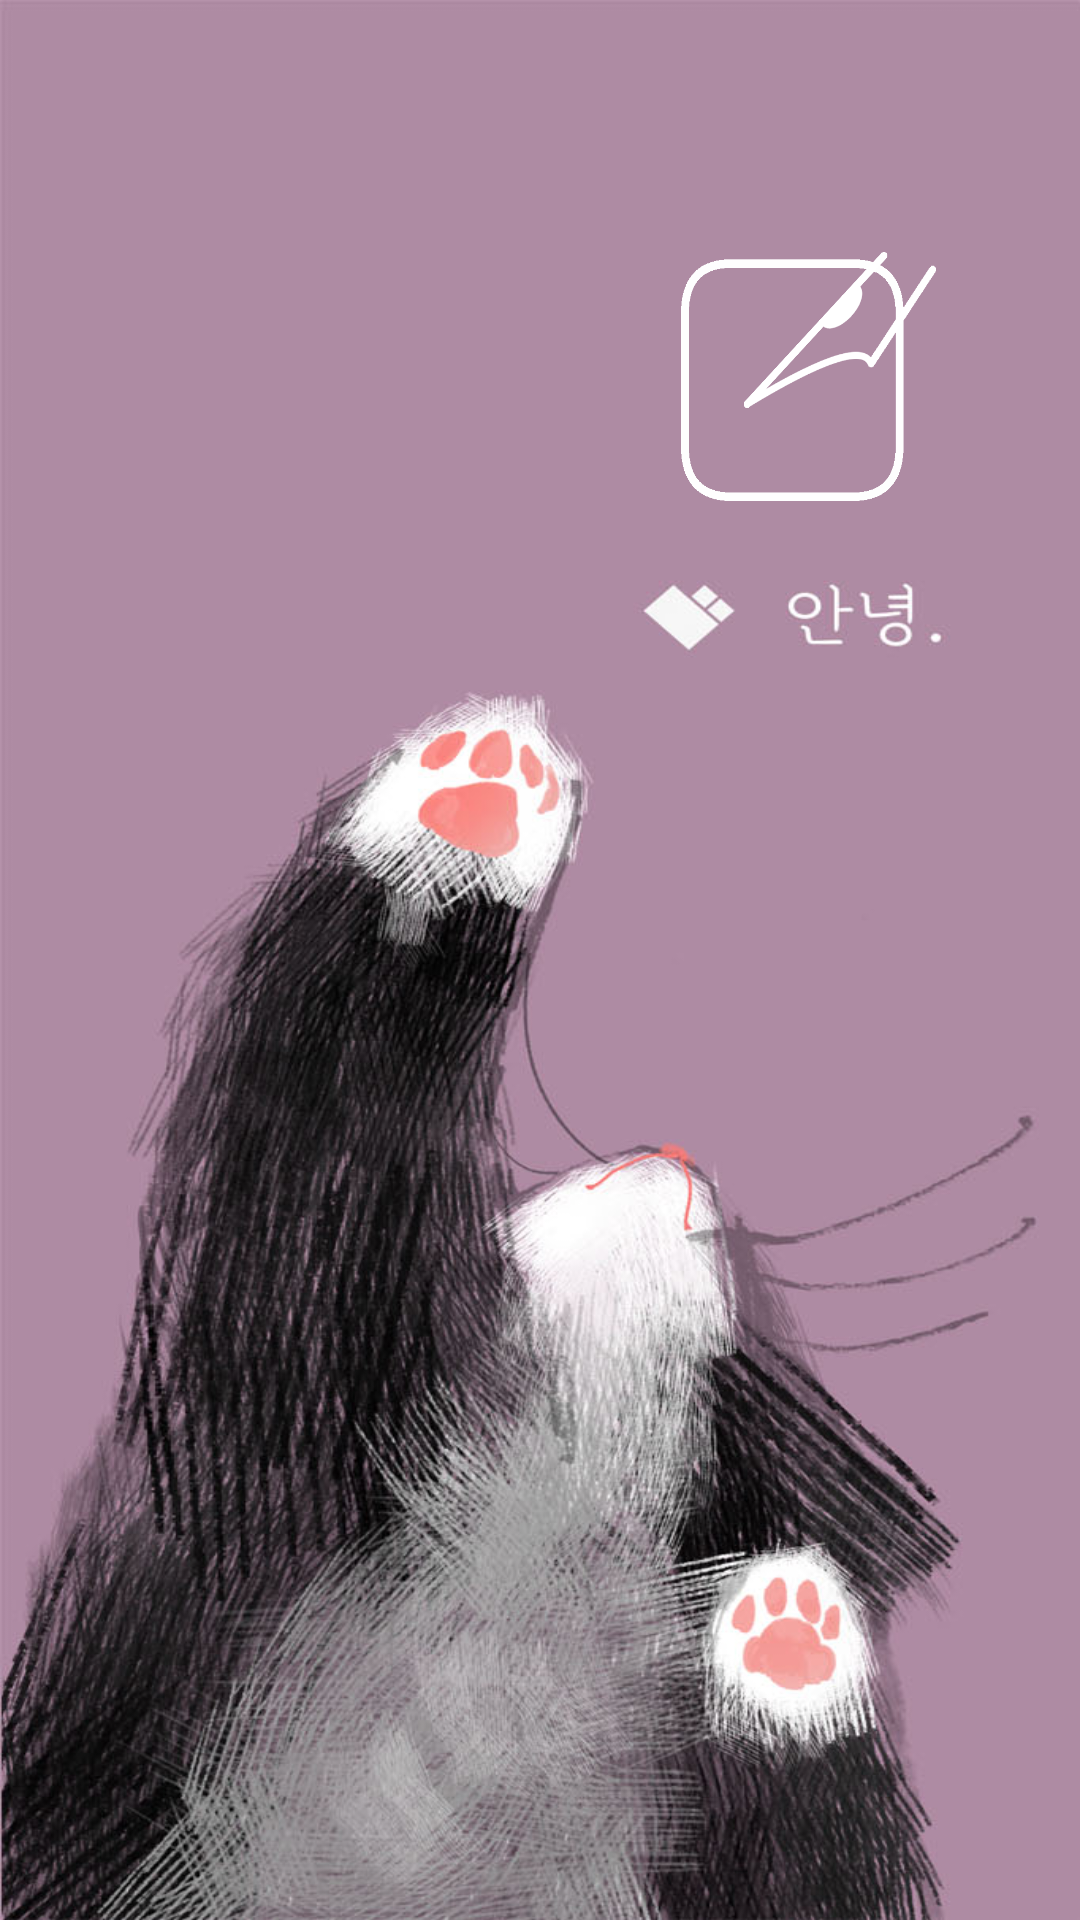

Named icons in this screenshot (1080px x 1920px) and their centers, (x=x, y=y):
pen: (x=808, y=376)
